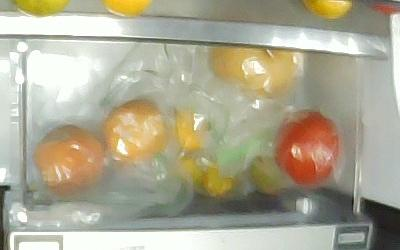peach_vinyl: (31, 123, 106, 199), (99, 96, 172, 163)
pear_vinyl: (274, 109, 339, 187), (207, 48, 294, 98)
tangerine_vinyl: (169, 106, 213, 150), (203, 163, 237, 195), (179, 155, 206, 191)
tomato_vinyl: (244, 152, 288, 195)
